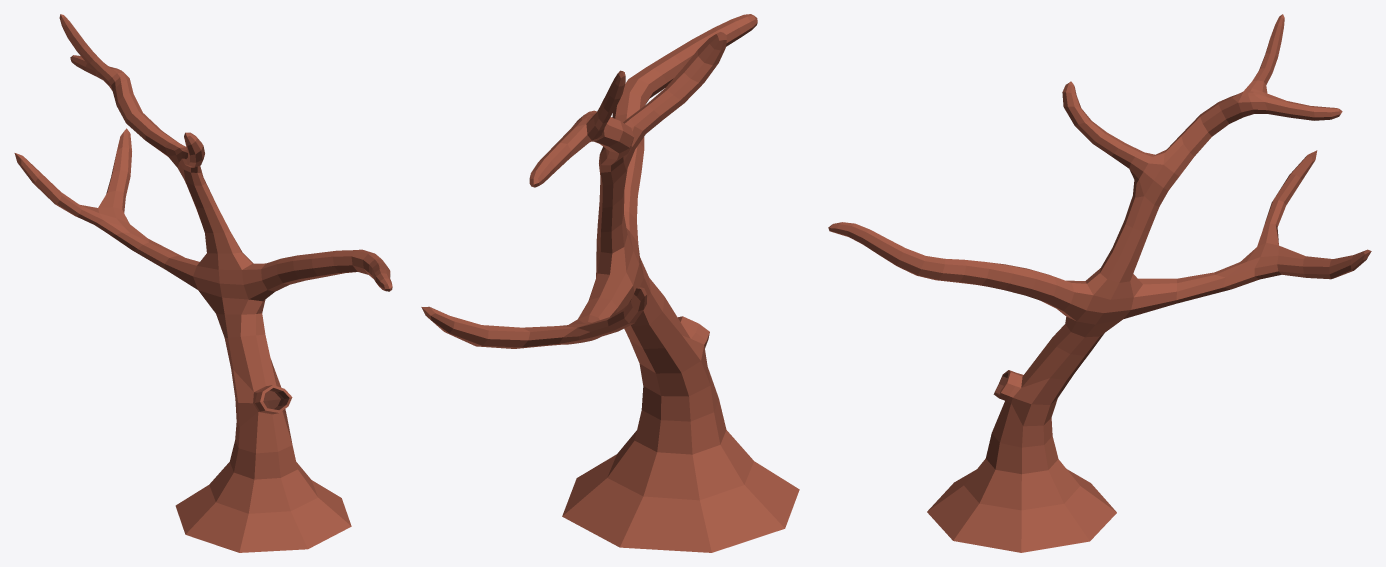
File: drzewoczerwone.fbx
The picture shows the model from 3 angles, left to right: view 1: azimuth 30°, elevation 25°; view 2: azimuth 150°, elevation 25°; view 3: azimuth 270°, elevation 25°; orthographic projection. The views are drawn at different scales.
Visible parts, largest first — view 1: Cube; view 2: Cube; view 3: Cube.
Boxes of the visible parts, x1,y1,x2,y2 form: Cube: (14,14,392,552); Cube: (421,14,799,552); Cube: (828,14,1371,552).
Size of the model in its own units: 1.7 by 3.72 by 4.
